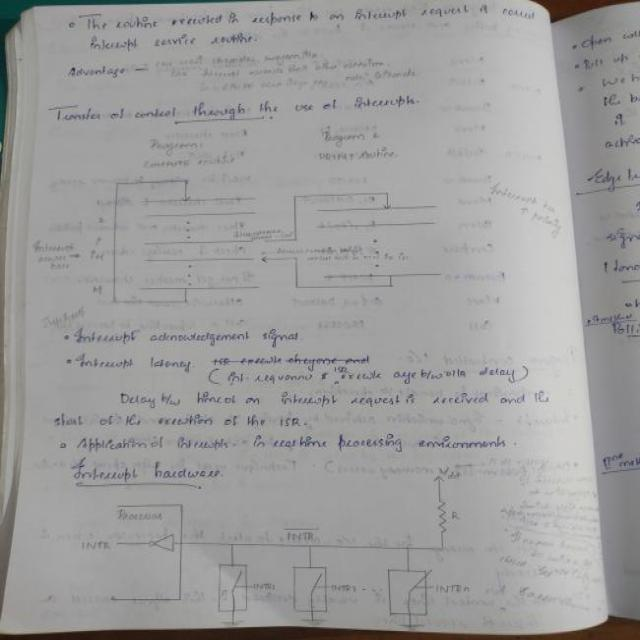Figure Detection - v3 Dataset Version2: (66, 465, 481, 631), (101, 168, 447, 321)
